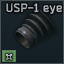NPZ USP-1 scope eyecup: (0, 0, 64, 64)
